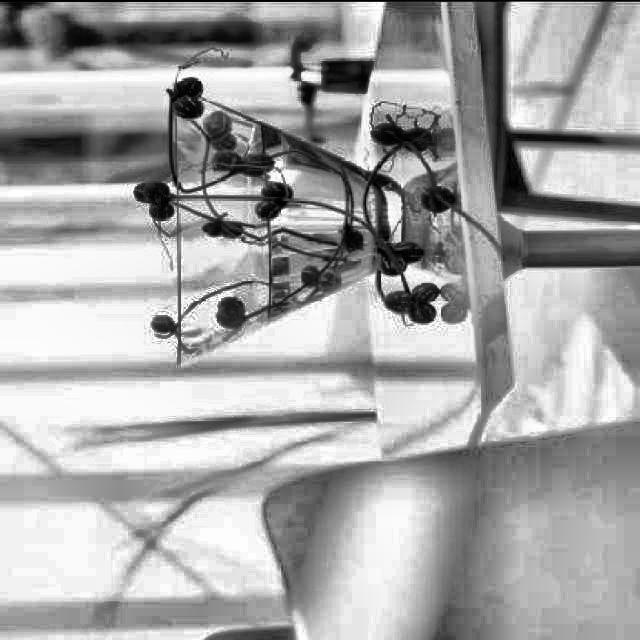plants: (157, 89, 425, 360)
